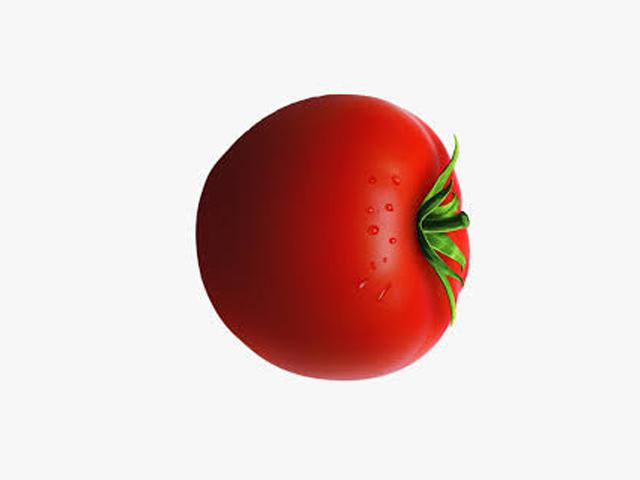tomato: (194, 94, 468, 346)
